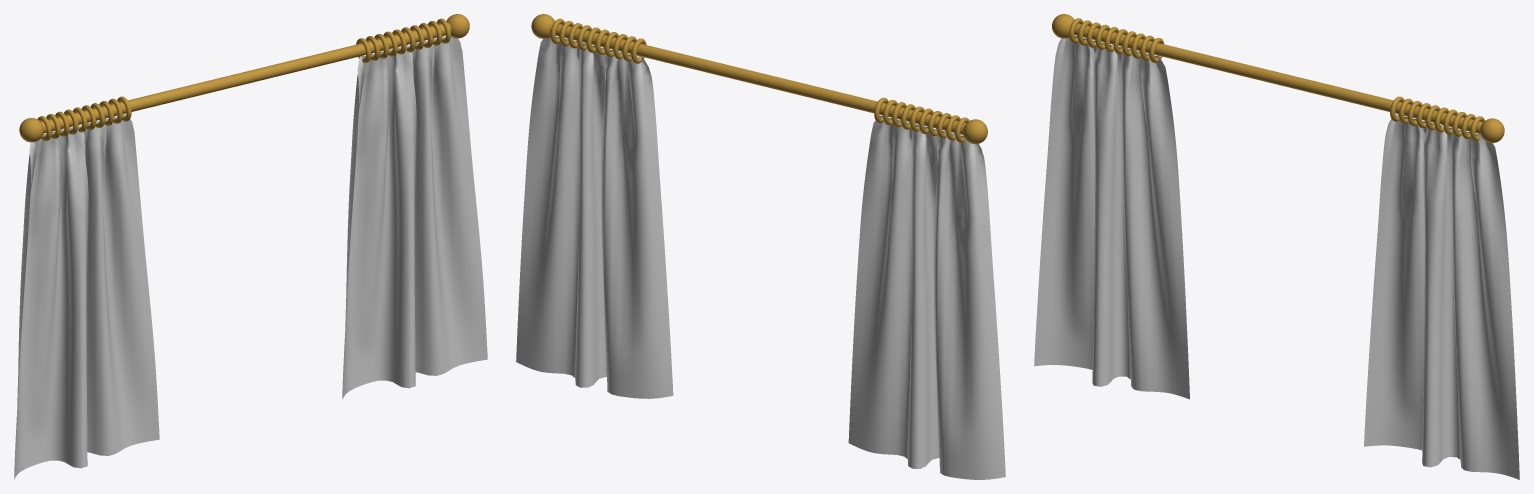
Rendered from curtain_A.fbx.
3 renders of one model, left to right at view 1: azimuth 30°, elevation 25°; view 2: azimuth 150°, elevation 25°; view 3: azimuth 330°, elevation 25°, orthographic.
Parts seen in each view (by area): view 1: 平面.004, 平面.005, 円柱.001, トーラス.003, トーラス.002, 球.001; view 2: 平面.004, 平面.005, 円柱.001, トーラス.002, トーラス.003, 球.001; view 3: 平面.005, 平面.004, 円柱.001, トーラス.002, トーラス.003, 球.001.
Part boxes in pixels (x1=…): 平面.004: x1=342, y1=36, x2=487, y2=398; 平面.005: x1=14, y1=114, x2=159, y2=479; 円柱.001: x1=41, y1=23, x2=451, y2=133; トーラス.003: x1=37, y1=96, x2=131, y2=140; トーラス.002: x1=356, y1=18, x2=450, y2=62; 球.001: x1=19, y1=14, x2=469, y2=142; 平面.004: x1=516, y1=36, x2=673, y2=398; 平面.005: x1=848, y1=115, x2=1005, y2=479; 円柱.001: x1=550, y1=23, x2=966, y2=134; トーラス.002: x1=550, y1=18, x2=646, y2=63; トーラス.003: x1=874, y1=97, x2=969, y2=142; 球.001: x1=531, y1=14, x2=987, y2=144; 平面.005: x1=1034, y1=36, x2=1189, y2=399; 平面.004: x1=1364, y1=114, x2=1519, y2=479; 円柱.001: x1=1074, y1=23, x2=1482, y2=133; トーラス.002: x1=1390, y1=96, x2=1484, y2=141; トーラス.003: x1=1069, y1=18, x2=1164, y2=62; 球.001: x1=1052, y1=14, x2=1504, y2=142.
Bounding box in the file's own units: 1348 × 948 × 85.47.
